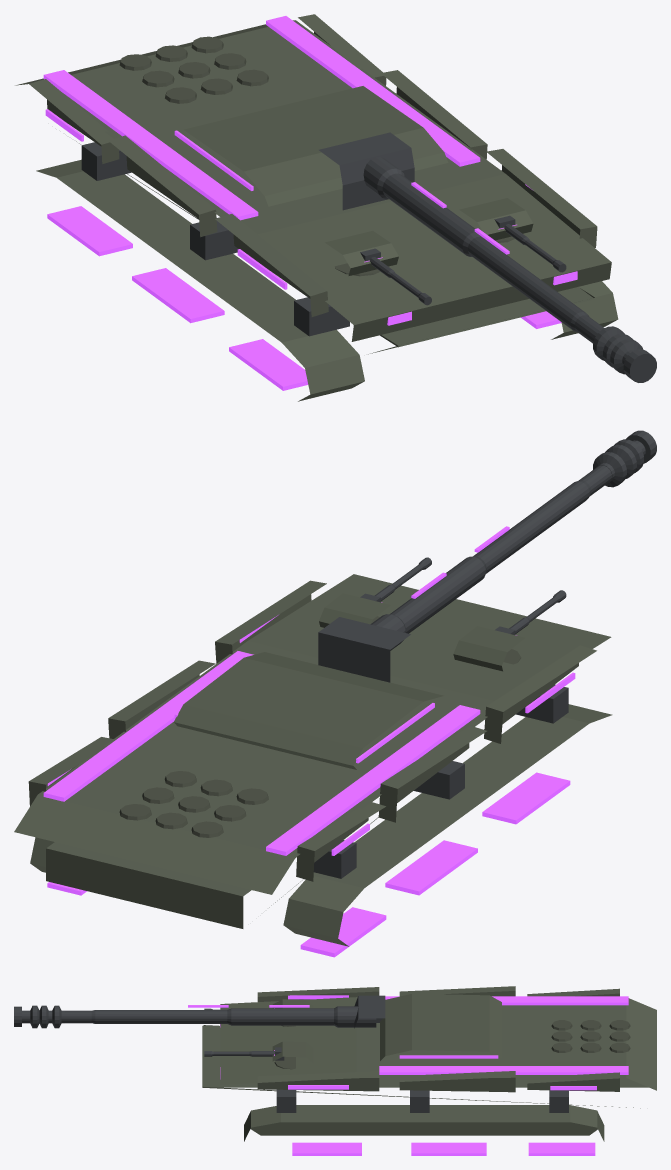
Rendered from mkcx2.glb.
3 views of the same model, one above another, from view 1: azimuth 30°, elevation 25°; view 2: azimuth 150°, elevation 25°; view 3: azimuth 270°, elevation 25° (orthographic). The views are drawn at different scales.
Parts seen in each view (by area): view 1: Hull_Mesh, Turret_Mesh, Nacelle_L, Barrel_Mesh, Deck_Glow_2, Deck_Glow_1, Mantlet_Mesh, Hull_Applique_L2, Hull_Applique_L1, Hull_Applique_R1, LiftEmitter_L2, MuzzleBrake_Mesh (+13 smaller); view 2: Hull_Mesh, Turret_Mesh, Nacelle_L, Barrel_Mesh, Deck_Glow_2, Deck_Glow_1, Mantlet_Mesh, Hull_Applique_L2, Hull_Applique_L1, LiftEmitter_L2, LiftEmitter_L3, Hull_Applique_R1 (+10 smaller); view 3: Hull_Mesh, Nacelle_R, Turret_Mesh, Barrel_Mesh, Hull_Applique_R2, Deck_Glow_1, Hull_Applique_R1, Deck_Glow_2, Hull_Applique_R3, LiftEmitter_R2, Hull_Applique_L1, LiftEmitter_R3 (+12 smaller).
Boxes of the visible parts, bbox=[...] form: Hull_Mesh: bbox=[15, 20, 611, 354]; Turret_Mesh: bbox=[184, 86, 448, 206]; Nacelle_L: bbox=[36, 159, 364, 401]; Barrel_Mesh: bbox=[363, 157, 604, 343]; Deck_Glow_2: bbox=[43, 70, 258, 220]; Deck_Glow_1: bbox=[266, 16, 480, 166]; Mantlet_Mesh: bbox=[319, 132, 414, 210]; Hull_Applique_L2: bbox=[108, 135, 217, 237]; Hull_Applique_L1: bbox=[215, 214, 328, 316]; Hull_Applique_R1: bbox=[486, 149, 597, 247]; LiftEmitter_L2: bbox=[132, 268, 224, 323]; MuzzleBrake_Mesh: bbox=[593, 326, 656, 382]; Hull_Mesh: bbox=[14, 574, 611, 928]; Turret_Mesh: bbox=[174, 652, 443, 769]; Nacelle_L: bbox=[283, 704, 612, 946]; Barrel_Mesh: bbox=[370, 465, 611, 650]; Deck_Glow_2: bbox=[266, 705, 480, 855]; Deck_Glow_1: bbox=[43, 651, 253, 801]; Mantlet_Mesh: bbox=[318, 617, 410, 682]; Hull_Applique_L2: bbox=[378, 725, 486, 822]; Hull_Applique_L1: bbox=[484, 645, 596, 743]; LiftEmitter_L2: bbox=[385, 840, 477, 895]; LiftEmitter_L3: bbox=[482, 772, 570, 824]; Hull_Applique_R1: bbox=[215, 580, 326, 663]; Hull_Mesh: bbox=[202, 997, 656, 1108]; Nacelle_R: bbox=[244, 1105, 604, 1141]; Turret_Mesh: bbox=[380, 994, 501, 1060]; Barrel_Mesh: bbox=[65, 1006, 376, 1027]; Hull_Applique_R2: bbox=[399, 1071, 515, 1092]; Deck_Glow_1: bbox=[379, 1066, 628, 1074]; Hull_Applique_R1: bbox=[257, 1071, 379, 1091]; Deck_Glow_2: bbox=[385, 996, 628, 1005]; Hull_Applique_R3: bbox=[527, 1072, 619, 1091]; LiftEmitter_R2: bbox=[411, 1142, 486, 1155]; Hull_Applique_L1: bbox=[257, 987, 379, 1001]; LiftEmitter_R3: bbox=[292, 1142, 361, 1155].
Bounding box in the file's own units: 3.94 × 2 × 11.09.
